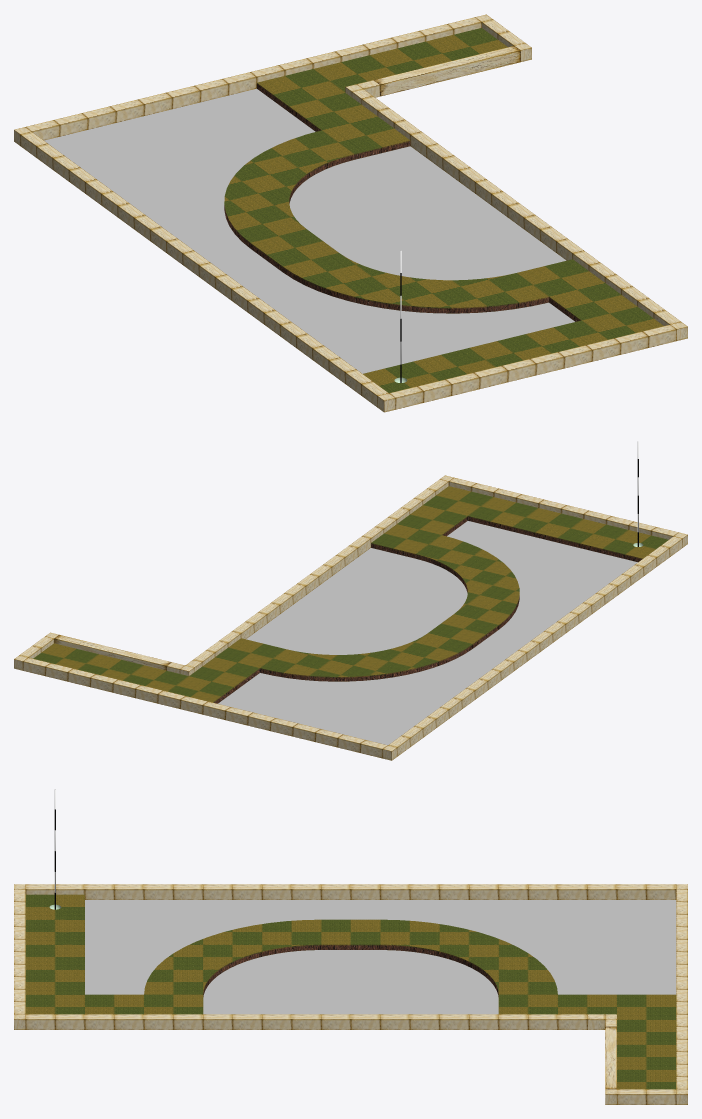
The picture shows the model from 3 angles, top to bottom: view 1: azimuth 30°, elevation 25°; view 2: azimuth 150°, elevation 25°; view 3: azimuth 270°, elevation 25°; orthographic projection. The views are drawn at different scales.
Parts seen in each view (by area): view 1: pool, grassland, bunker2, bunker1, square; view 2: pool, grassland, bunker2, bunker1, square; view 3: pool, grassland, bunker2, bunker1, square.
Boxes of the visible parts, x1,y1,x2,y2 form: pool: (44, 88, 574, 373); grassland: (224, 28, 663, 392); bunker2: (20, 19, 680, 407); bunker1: (25, 17, 676, 409); square: (14, 14, 687, 412); pool: (218, 521, 637, 745); grassland: (33, 486, 668, 703); bunker2: (19, 479, 682, 756); bunker1: (23, 477, 678, 758); square: (14, 475, 687, 760); pool: (85, 900, 676, 1014); grassland: (25, 894, 676, 1089); bunker2: (25, 884, 676, 1104); bunker1: (14, 889, 687, 1089); square: (14, 884, 687, 1104).
Size of the model in its own units: 84 by 23 by 114.
